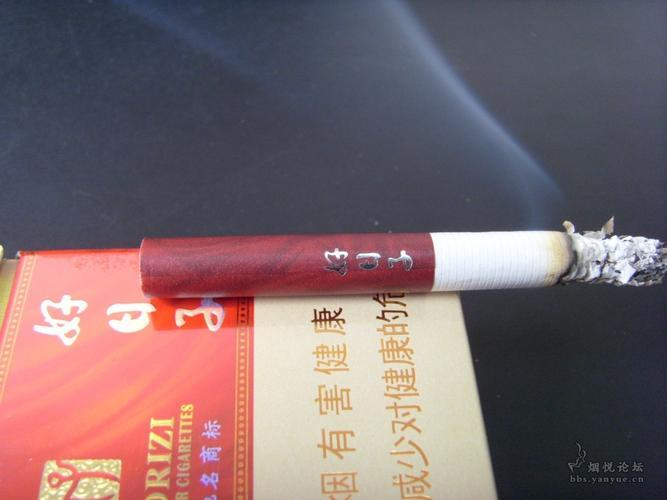smoke: (140, 230, 667, 297)
